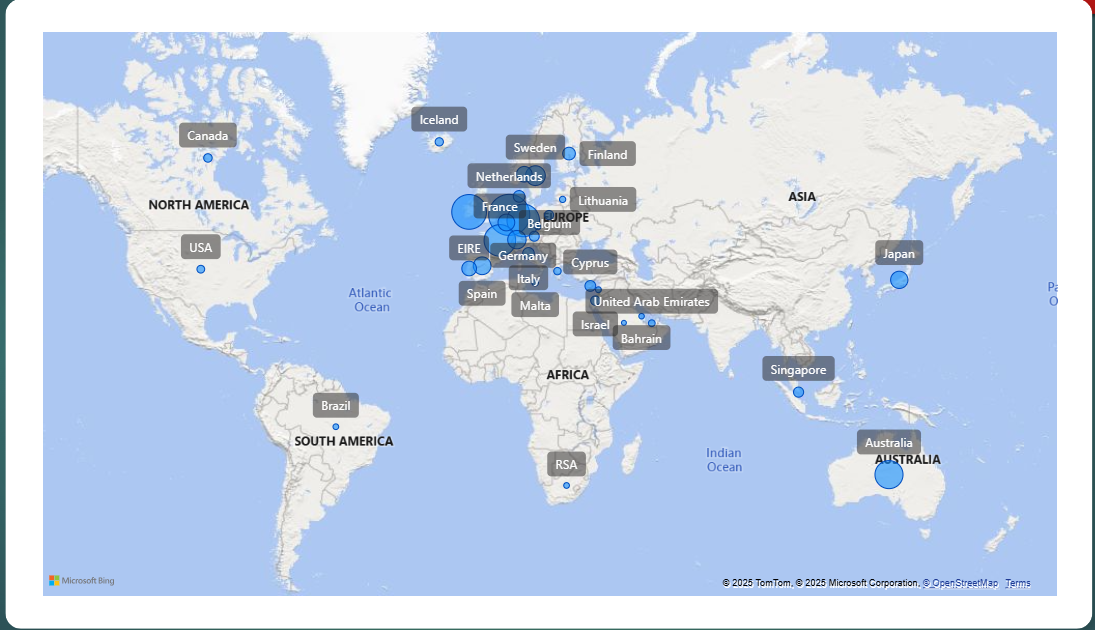

The dashboard page shown, as its layout file describes it:
{"tool":"powerbi","page":{"name":"Q4","canvas":[1280,720],"ordinal":3},"visuals":[{"type":"shape","box":[101.6,94.6,1067.1,626.1],"z":0},{"type":"map","title":"Countries with great demand","fields":{"Category":["Online Retail Data.Country"],"Size":["Sum(Online Retail Data.Quantity)"]},"box":[141.9,130.8,987.8,553.7],"z":1000},{"type":"textbox","box":[57,19.5,1132.5,61.2],"z":2000}]}

Visuals, with their boxes in screenshot pixels (x1, y1, x2, y2), scaled from the page's 1280x720 canvas onto the 1095x630 screenshot:
shape: {"left": 87, "top": 83, "right": 1000, "bottom": 629}
"Countries with great demand" map: {"left": 121, "top": 114, "right": 966, "bottom": 599}
textbox: {"left": 49, "top": 17, "right": 1018, "bottom": 71}
